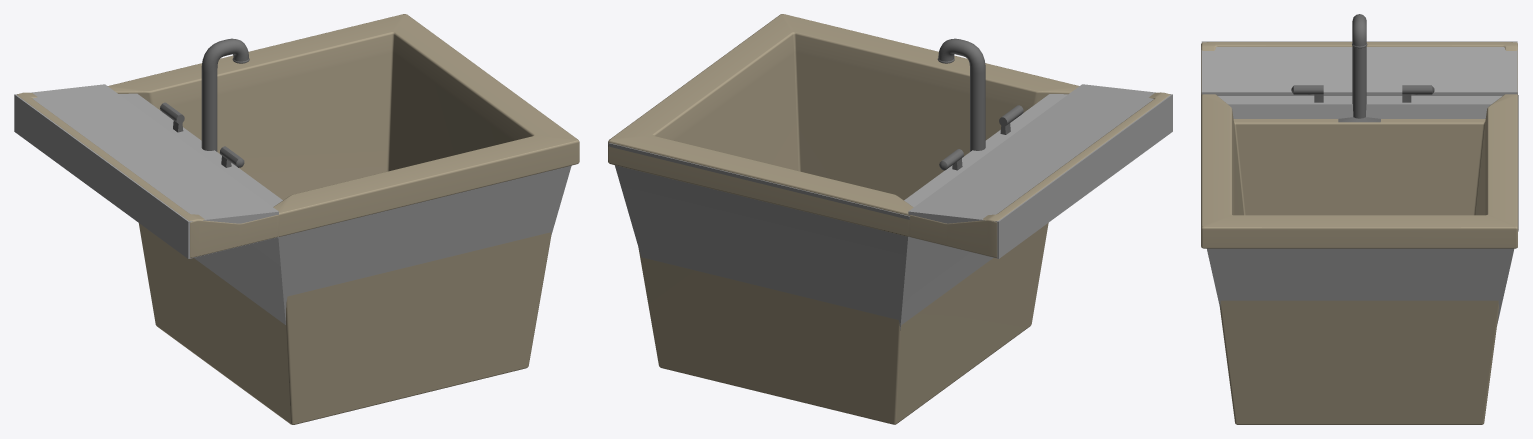
Rendered from deepSink.fbx.
3 renders of one model, left to right at view 1: azimuth 30°, elevation 25°; view 2: azimuth 150°, elevation 25°; view 3: azimuth 270°, elevation 25°, orthographic. The views are drawn at different scales.
Parts seen in each view (by area): view 1: deepSink, deepSink_COL; view 2: deepSink, deepSink_COL; view 3: deepSink, deepSink_COL.
Part boxes in pixels (x1,y1,x2,y2): deepSink: [17, 14, 579, 424]; deepSink_COL: [14, 84, 571, 324]; deepSink: [608, 14, 1170, 424]; deepSink_COL: [608, 84, 1172, 424]; deepSink: [1201, 14, 1517, 424]; deepSink_COL: [1201, 41, 1518, 325].
Size of the model in its own units: 16.18 by 13.21 by 12.51.
